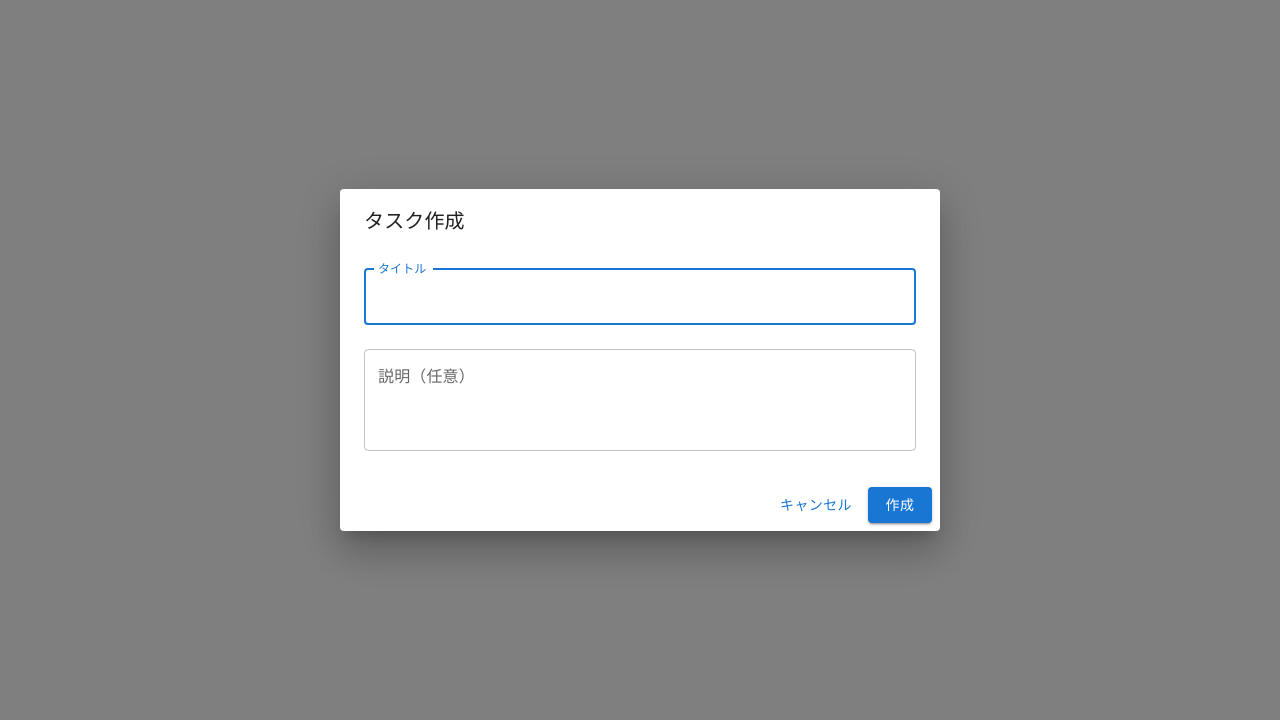
Scenario: TaskCreateDialog › タイトル未入力でバリデーションエラーを表示する
Click the button "作成": (900, 505) [868,487,932,523]
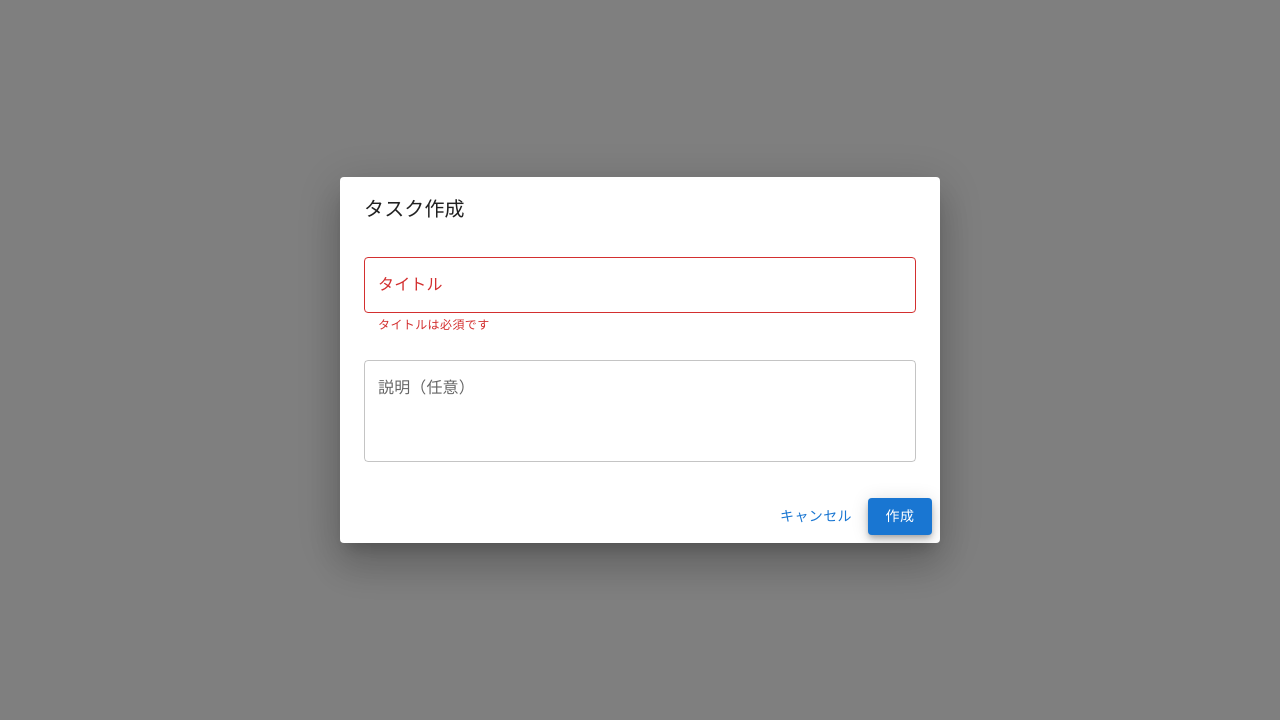
Check: the text "タイトルは必須です" is shown, box [378,318,490,332]
